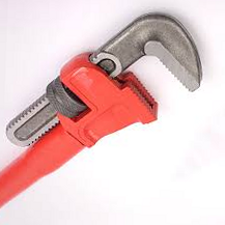wrench: (3, 22, 221, 187)
